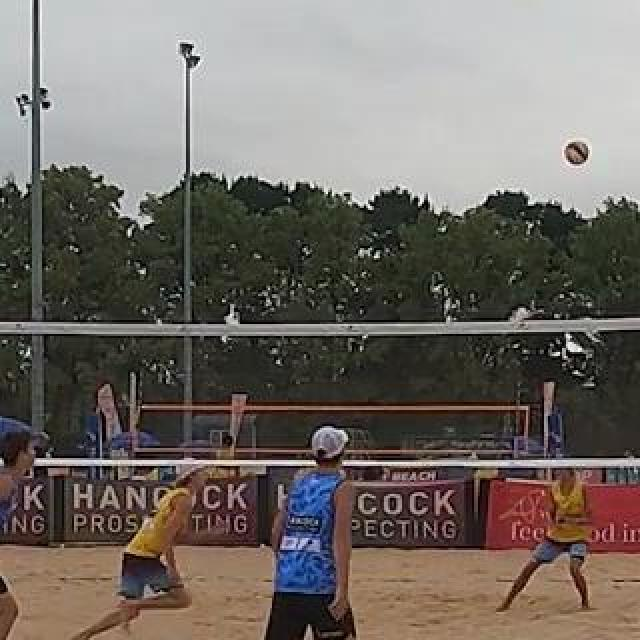volleyball: (563, 140, 589, 166)
